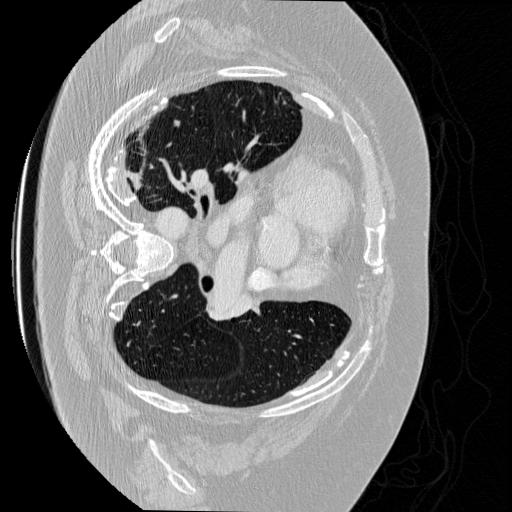nodule: (174, 121, 184, 131)
